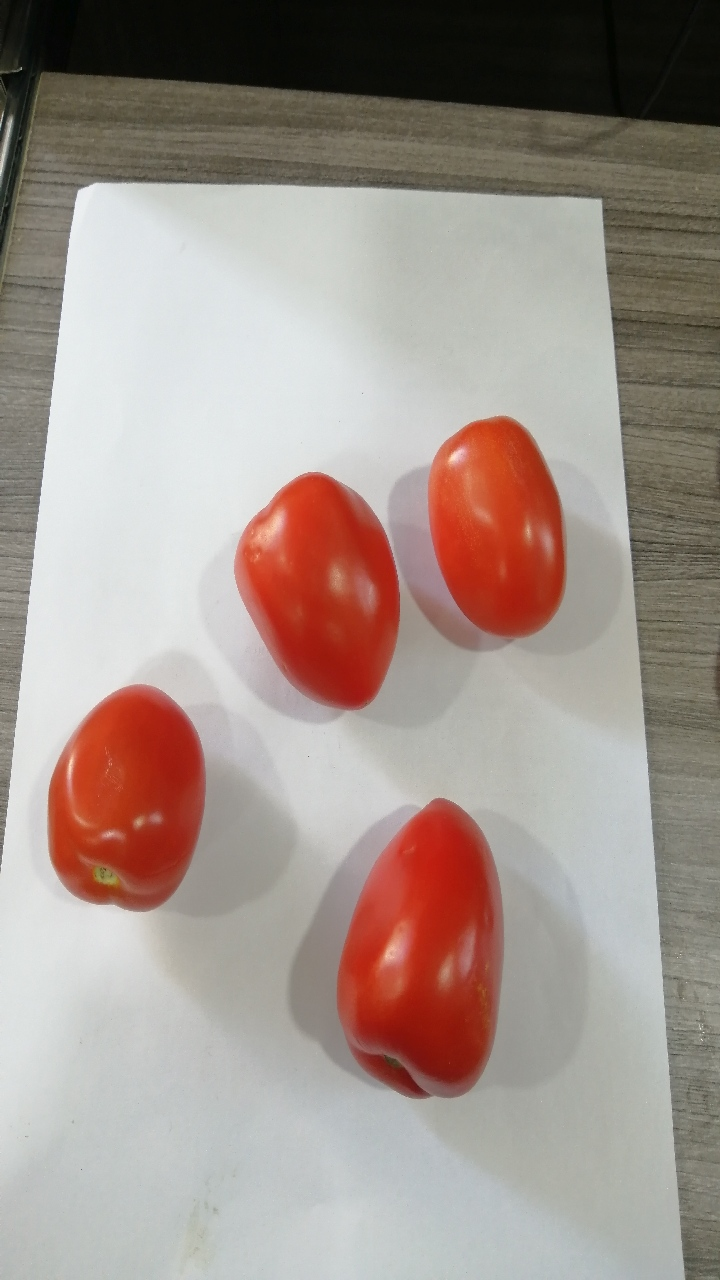tomateRojo: (311, 777, 518, 1131), (195, 466, 421, 740), (40, 674, 229, 939), (415, 402, 592, 668)
